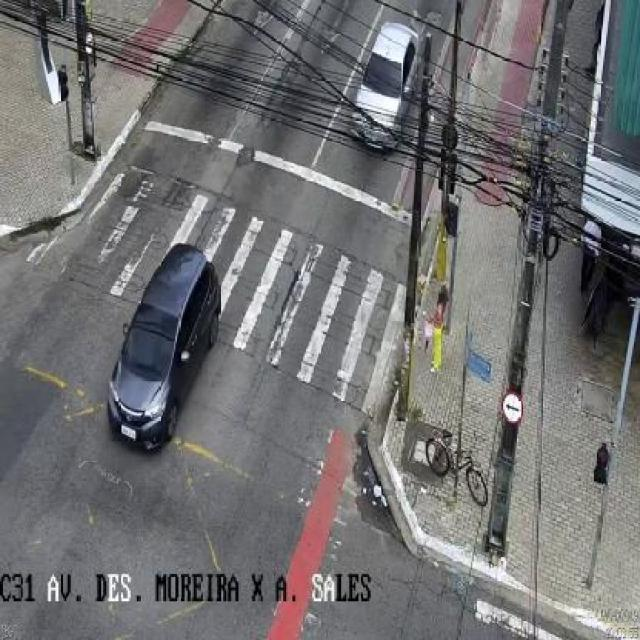Car: (90, 232, 230, 473), (330, 18, 439, 144)
